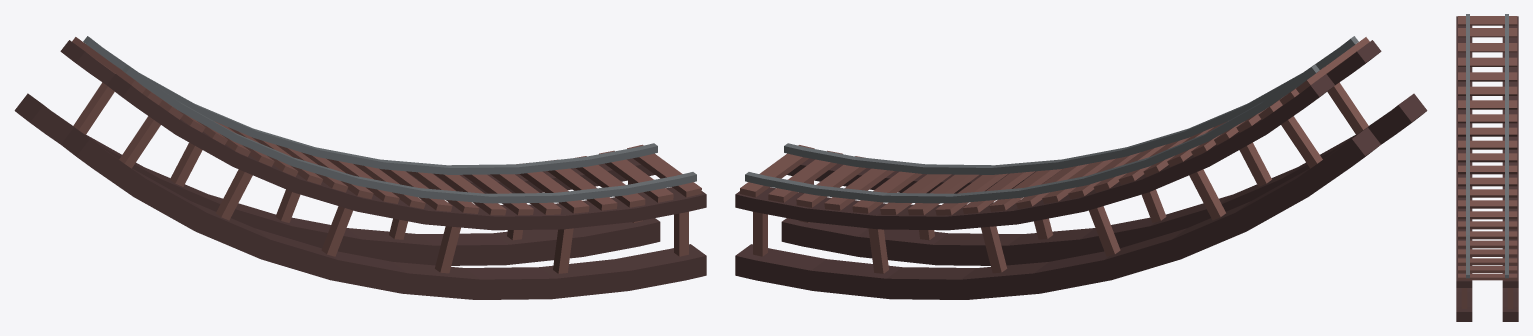
Rendered from DarkRoseWoodMechGentle1_545GaugeRise1.fbx.
The picture shows the model from 3 angles, left to right: view 1: azimuth 30°, elevation 25°; view 2: azimuth 150°, elevation 25°; view 3: azimuth 270°, elevation 25°; orthographic projection. The views are drawn at different scales.
Visible parts, largest first — view 1: DarkRoseWoodMechGentle1_545GaugeRise1; view 2: DarkRoseWoodMechGentle1_545GaugeRise1; view 3: DarkRoseWoodMechGentle1_545GaugeRise1.
Boxes of the visible parts, x1,y1,x2,y2 form: DarkRoseWoodMechGentle1_545GaugeRise1: [14, 36, 706, 299]; DarkRoseWoodMechGentle1_545GaugeRise1: [735, 36, 1427, 299]; DarkRoseWoodMechGentle1_545GaugeRise1: [1456, 14, 1518, 321].
Size of the model in its own units: 1549 by 798 by 265.
